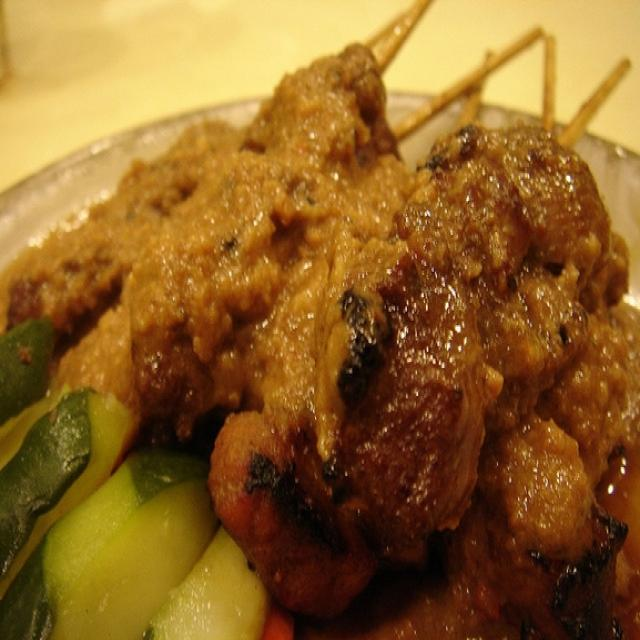牛肉菜式: (28, 31, 619, 591)
